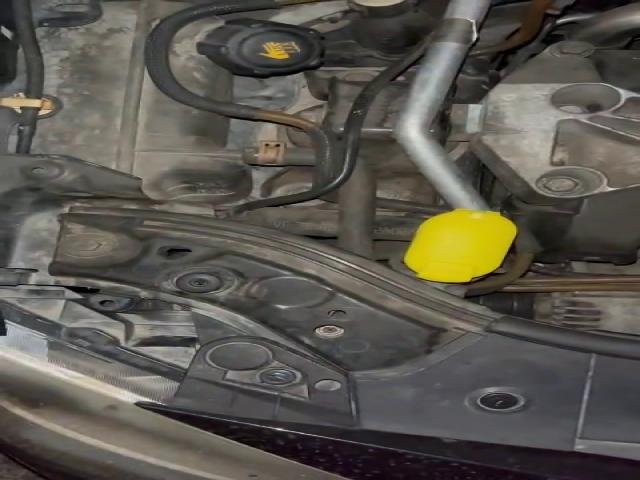antifreeze_tank: (33, 0, 250, 203), (170, 16, 322, 101)
